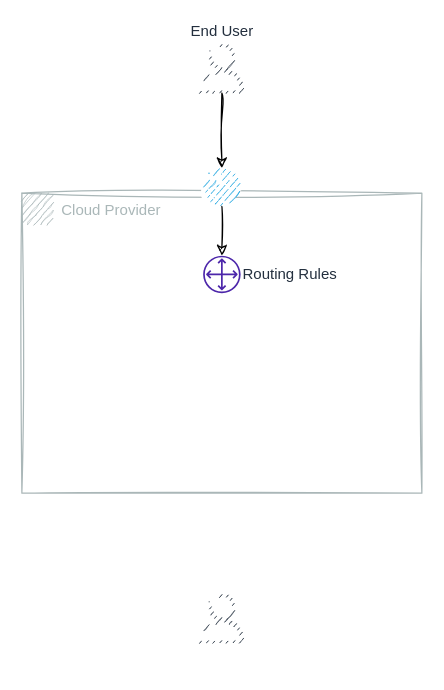
Some shapes in this 444 by 690 pixel diagram are drawn without their labels. Each missing label, with the centre of its shape:
"Clloud DNS Service" goes at point (221, 186).
"Cloud Engineer" goes at point (221, 617).
